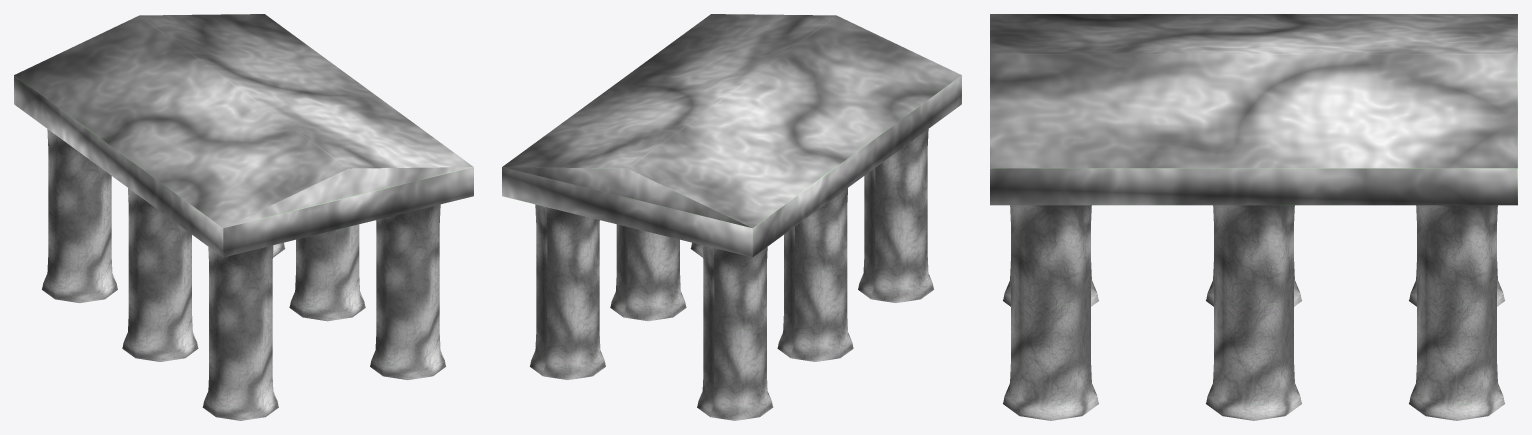
Rendered from Shrine.obj.
3 renders of one model, left to right at view 1: azimuth 30°, elevation 25°; view 2: azimuth 150°, elevation 25°; view 3: azimuth 270°, elevation 25°, orthographic. The views are drawn at different scales.
Parts seen in each view (by area): view 1: Roof, Cylinder006, Cylinder003, Cylinder005, Cylinder004, Cylinder002; view 2: Roof, Cylinder004, Cylinder001, Cylinder005, Cylinder006, Cylinder002; view 3: Roof, Cylinder001, Cylinder003, Cylinder002.
Boxes of the visible parts, <box> form: Roof: <box>14,14,473,257</box>; Cylinder006: <box>202,245,278,420</box>; Cylinder003: <box>370,204,445,379</box>; Cylinder005: <box>122,188,198,361</box>; Cylinder004: <box>42,129,117,302</box>; Cylinder002: <box>289,224,365,321</box>; Roof: <box>502,14,961,257</box>; Cylinder004: <box>697,245,773,420</box>; Cylinder001: <box>530,204,605,379</box>; Cylinder005: <box>777,188,853,361</box>; Cylinder006: <box>858,129,933,302</box>; Cylinder002: <box>610,224,686,321</box>; Roof: <box>990,14,1517,205</box>; Cylinder001: <box>1409,205,1504,420</box>; Cylinder003: <box>1003,205,1098,420</box>; Cylinder002: <box>1206,205,1301,420</box>.
Bounding box in the file's own units: 90 × 80 × 130.
